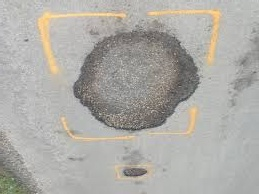pothole: (67, 25, 198, 135), (117, 165, 146, 180)
